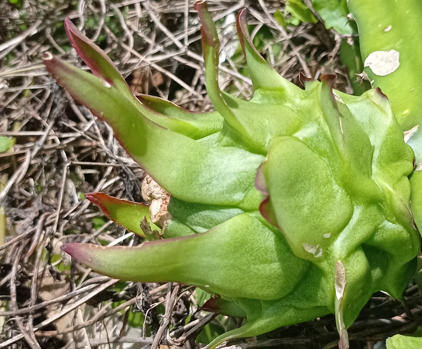Belum Matang: (33, 44, 417, 324)
